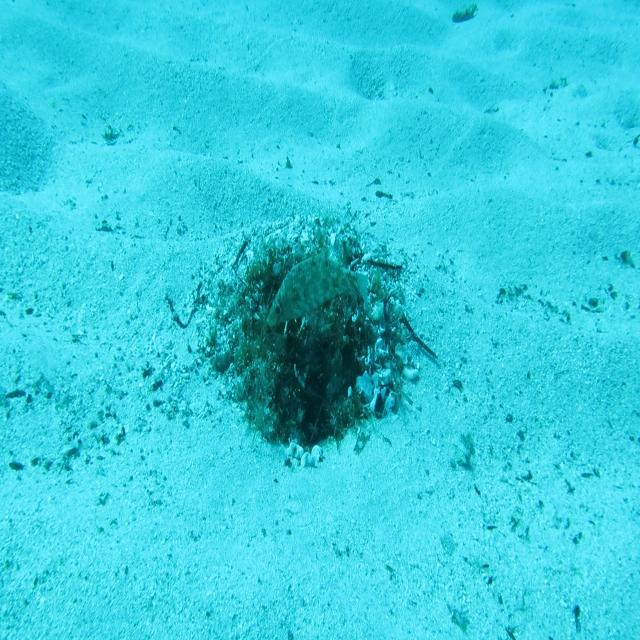MAN: (265, 241, 373, 330)
core_nest: (278, 273, 325, 316)
nest: (179, 209, 423, 486)
vegetation: (449, 4, 478, 24)
